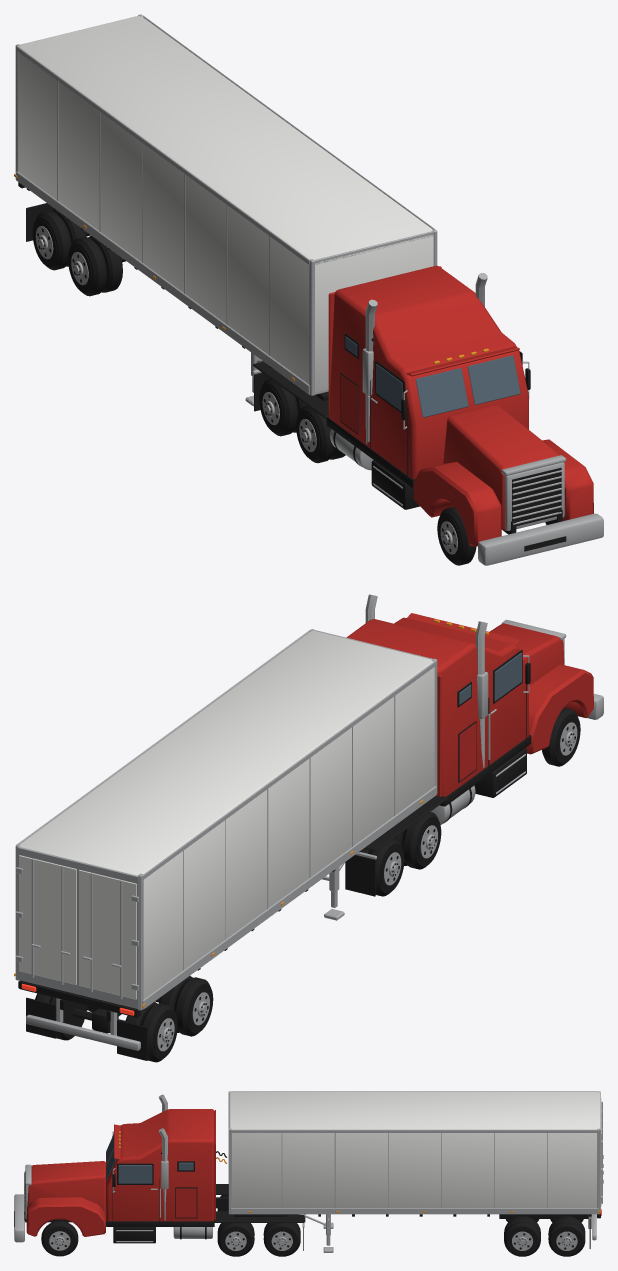
The model's file is SemiTruck.fbx.
3 views of the same model, one above another, from view 1: azimuth 30°, elevation 25°; view 2: azimuth 150°, elevation 25°; view 3: azimuth 270°, elevation 25° (orthographic). The views are drawn at different scales.
Visible parts, largest first — view 1: SemiTruck_Mesh; view 2: SemiTruck_Mesh; view 3: SemiTruck_Mesh.
Boxes of the visible parts, x1=… form: SemiTruck_Mesh: x1=14, y1=14, x2=603, y2=565; SemiTruck_Mesh: x1=14, y1=594, x2=603, y2=1062; SemiTruck_Mesh: x1=14, y1=1091, x2=603, y2=1256.
Bounding box in the file's own units: 2.63 × 4.01 × 16.58.
